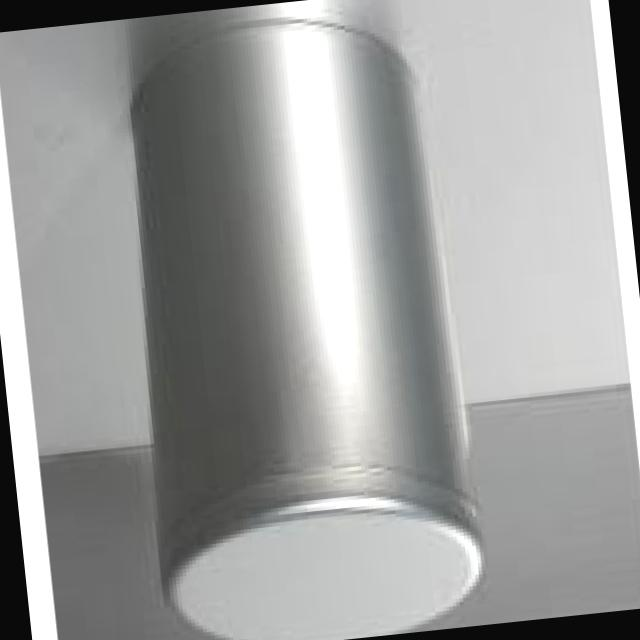kim_loai: (133, 20, 485, 640)
